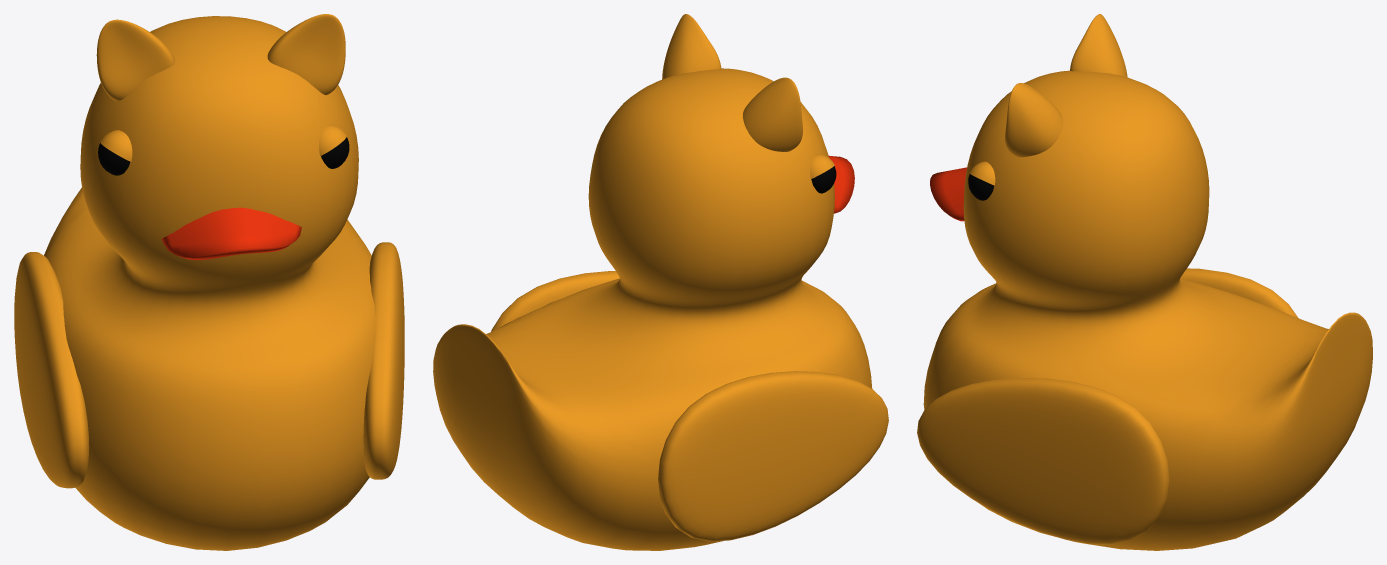
File: ducker.glb
The picture shows the model from 3 angles, left to right: view 1: azimuth 30°, elevation 25°; view 2: azimuth 150°, elevation 25°; view 3: azimuth 270°, elevation 25°; orthographic projection. The views are drawn at different scales.
Visible parts, largest first — view 1: Cube.003, Cube.004, Cube.005, Plane.002, Sphere.001, Sphere; view 2: Cube.003, Cube.004, Cube.005, Plane.002; view 3: Cube.003, Cube.004, Cube.005, Plane.002.
Boxes of the visible parts, <box> form: Cube.003: <box>44,16,376,550</box>; Cube.004: <box>14,242,404,488</box>; Cube.005: <box>96,14,345,101</box>; Plane.002: <box>162,207,301,260</box>; Sphere.001: <box>100,124,346,161</box>; Sphere: <box>98,137,349,175</box>; Cube.003: <box>433,68,872,550</box>; Cube.004: <box>491,271,888,541</box>; Cube.005: <box>662,14,802,151</box>; Plane.002: <box>829,155,854,213</box>; Cube.003: <box>923,70,1372,550</box>; Cube.004: <box>917,268,1297,544</box>; Cube.005: <box>1005,14,1127,157</box>; Plane.002: <box>930,167,966,221</box>.
Size of the model in its own units: 0.2337 by 0.295 by 0.2649.
